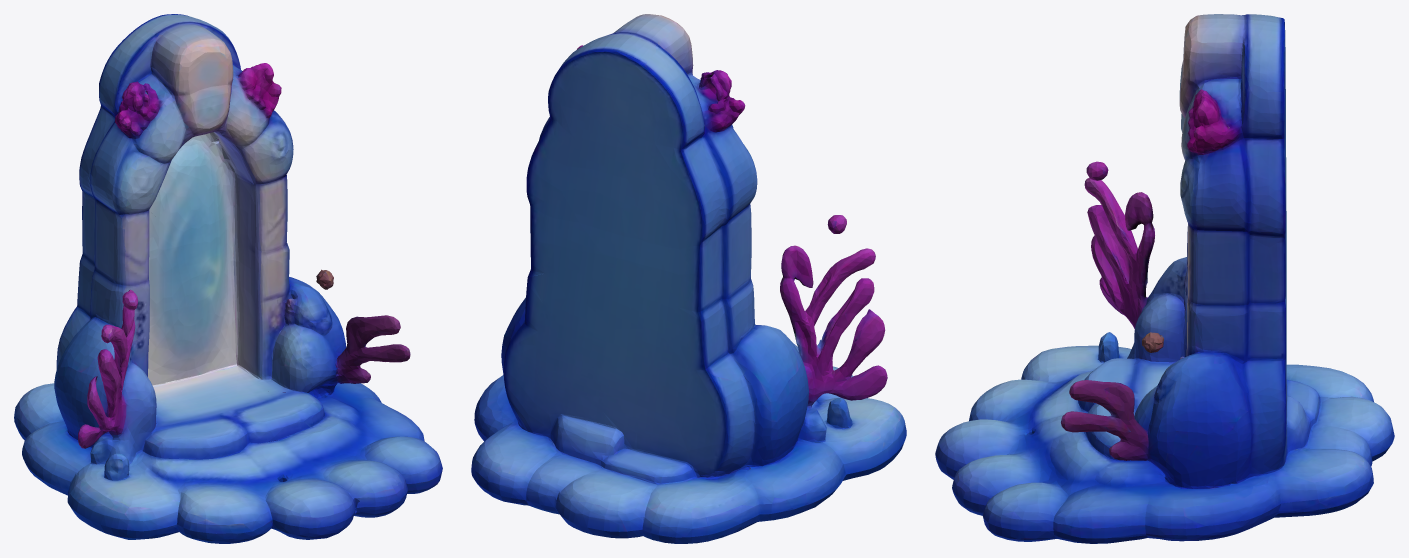
Rendered from portal_water.glb.
The picture shows the model from 3 angles, left to right: view 1: azimuth 30°, elevation 25°; view 2: azimuth 150°, elevation 25°; view 3: azimuth 270°, elevation 25°; orthographic projection. The views are drawn at different scales.
Visible parts, largest first — view 1: world; view 2: world; view 3: world.
Part boxes in pixels (<box>): world: <box>14,14,442,543</box>; world: <box>471,14,906,543</box>; world: <box>935,14,1394,543</box>.
Size of the model in its own units: 0.8369 by 0.9965 by 0.9223.
Materials: 1 (1 with a texture image).
